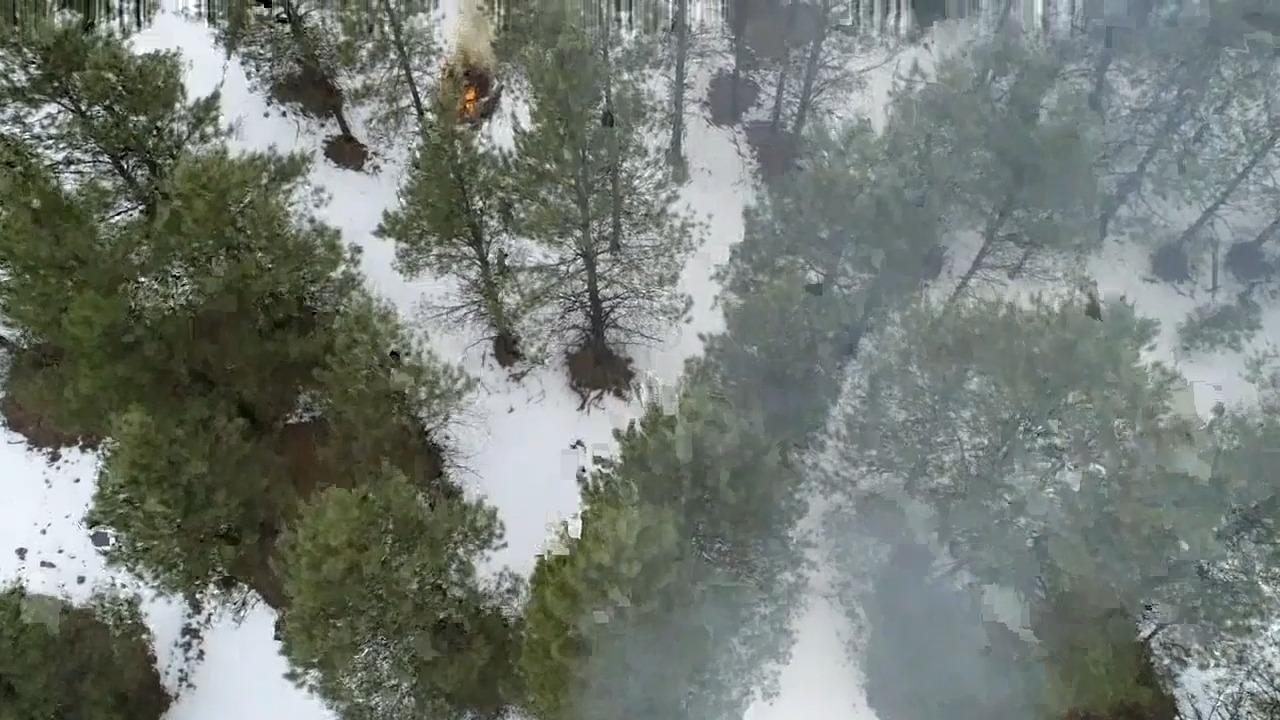fire: (453, 66, 488, 108)
smoke: (870, 522, 1022, 719)
